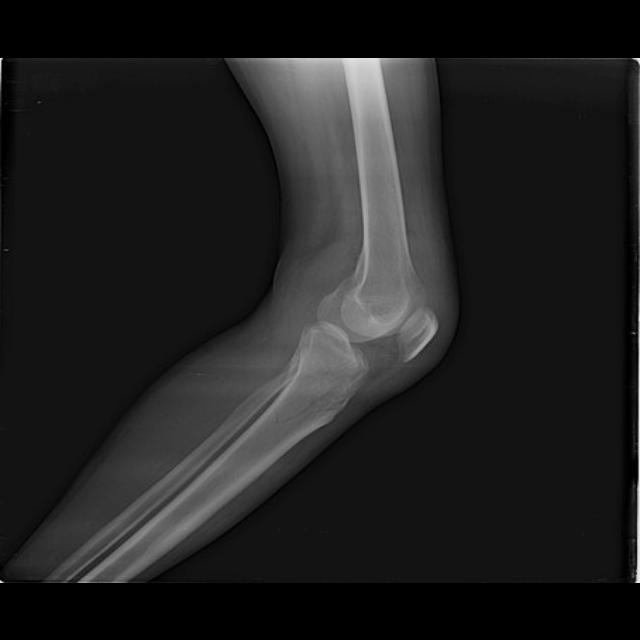Fracture: (271, 363, 370, 432)
